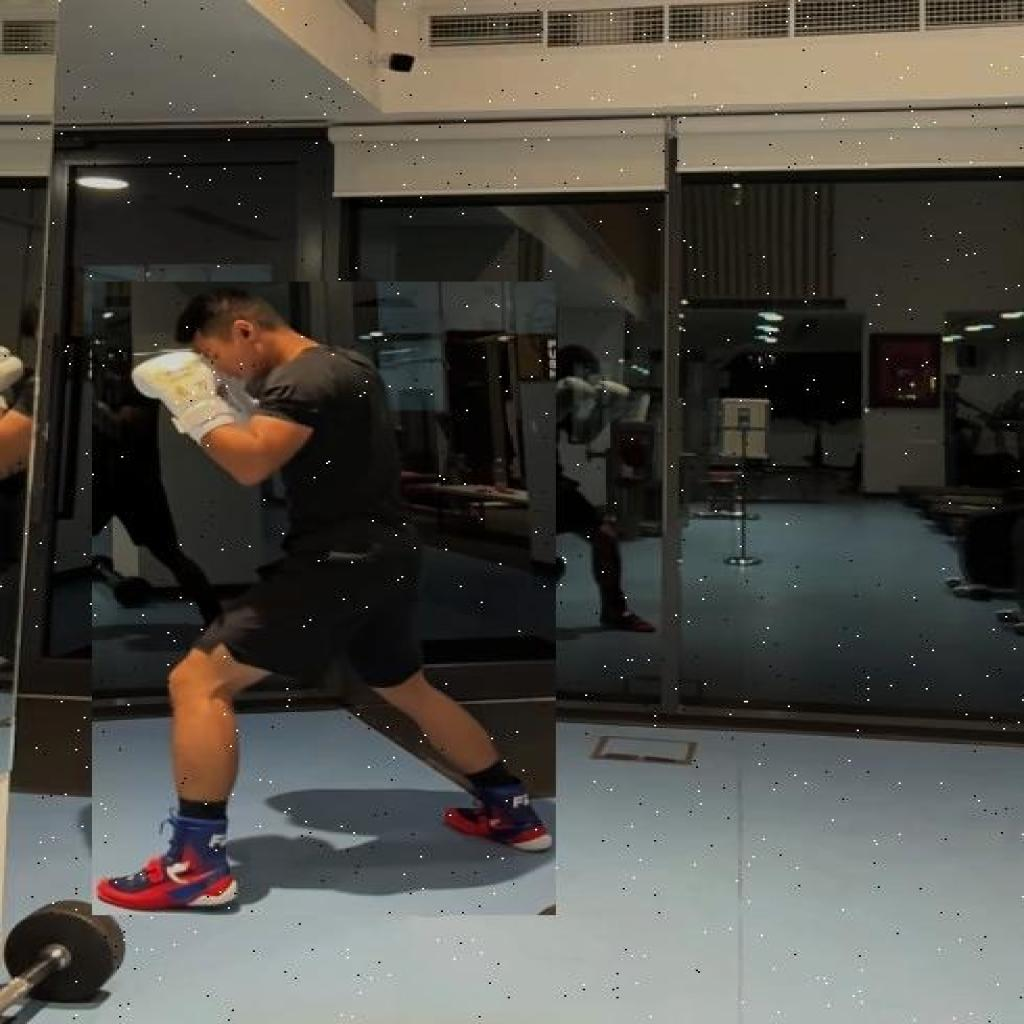no punch: (92, 282, 555, 915)
